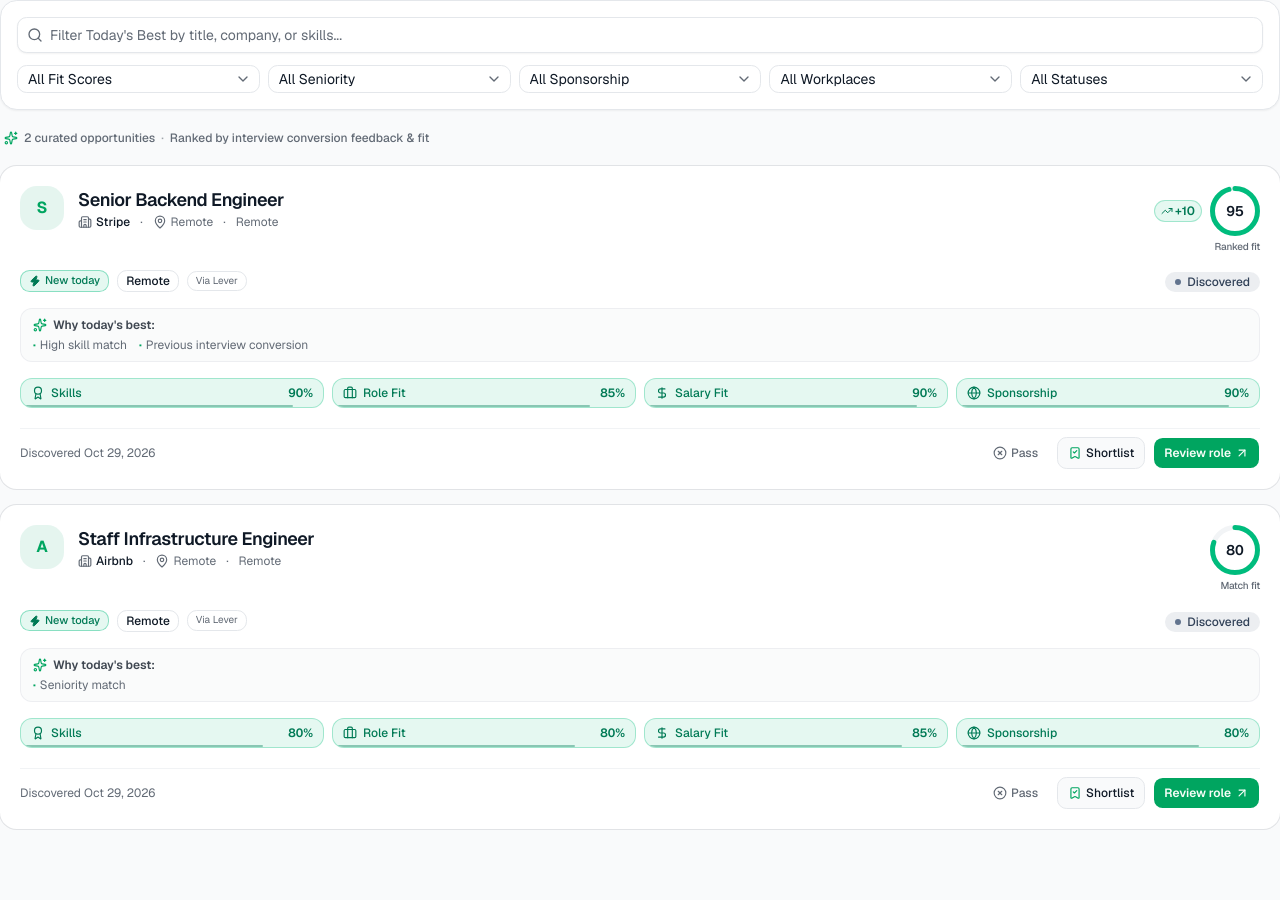
Scenario: judges a Pass against the filter in force when it is saved
Click the button "Pass" below "Ranked fit".
click(1016, 453)  # box [982,437,1049,469]
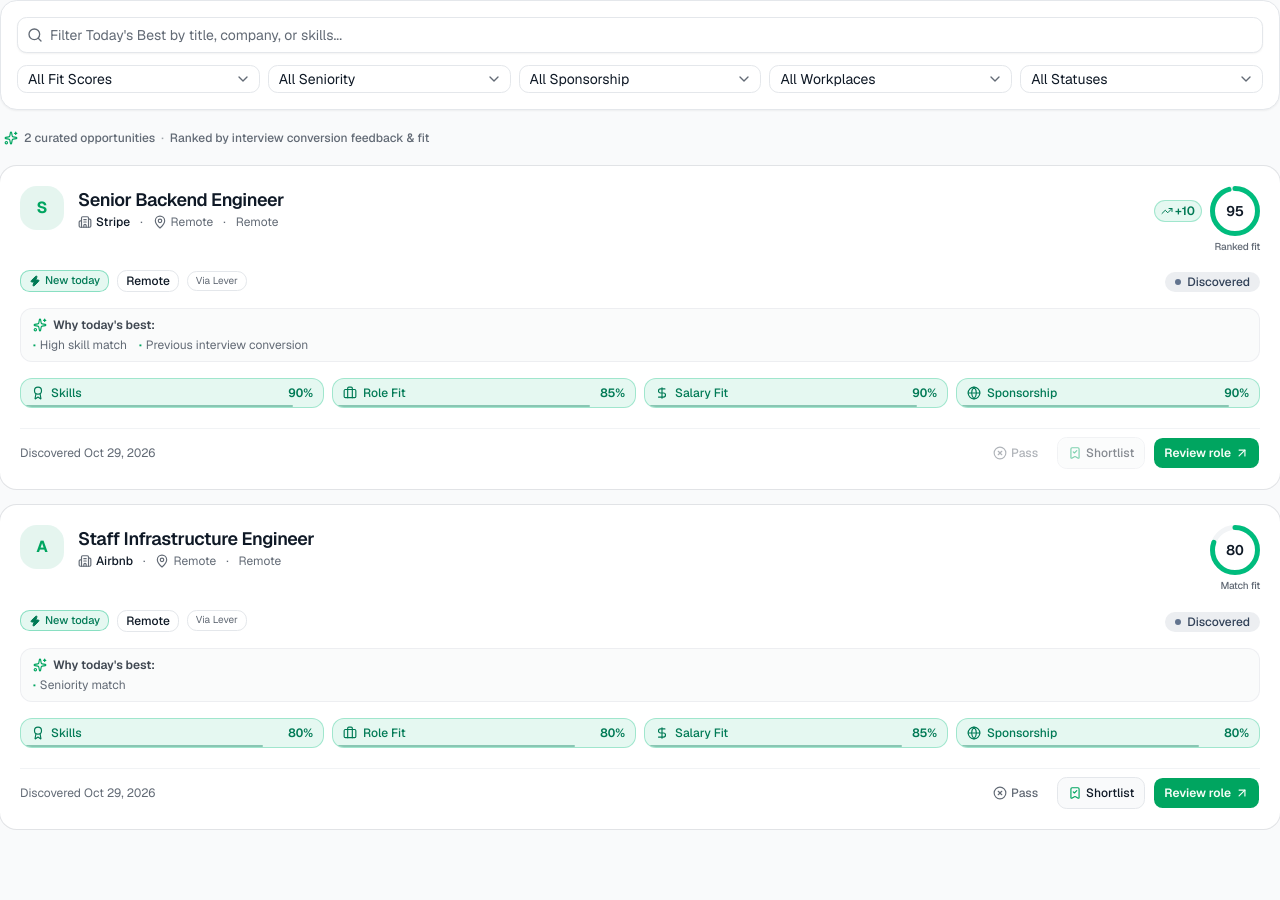
Click the dropdown named "filter by pipeline status".
click(1142, 79)  # box [1020,65,1263,93]
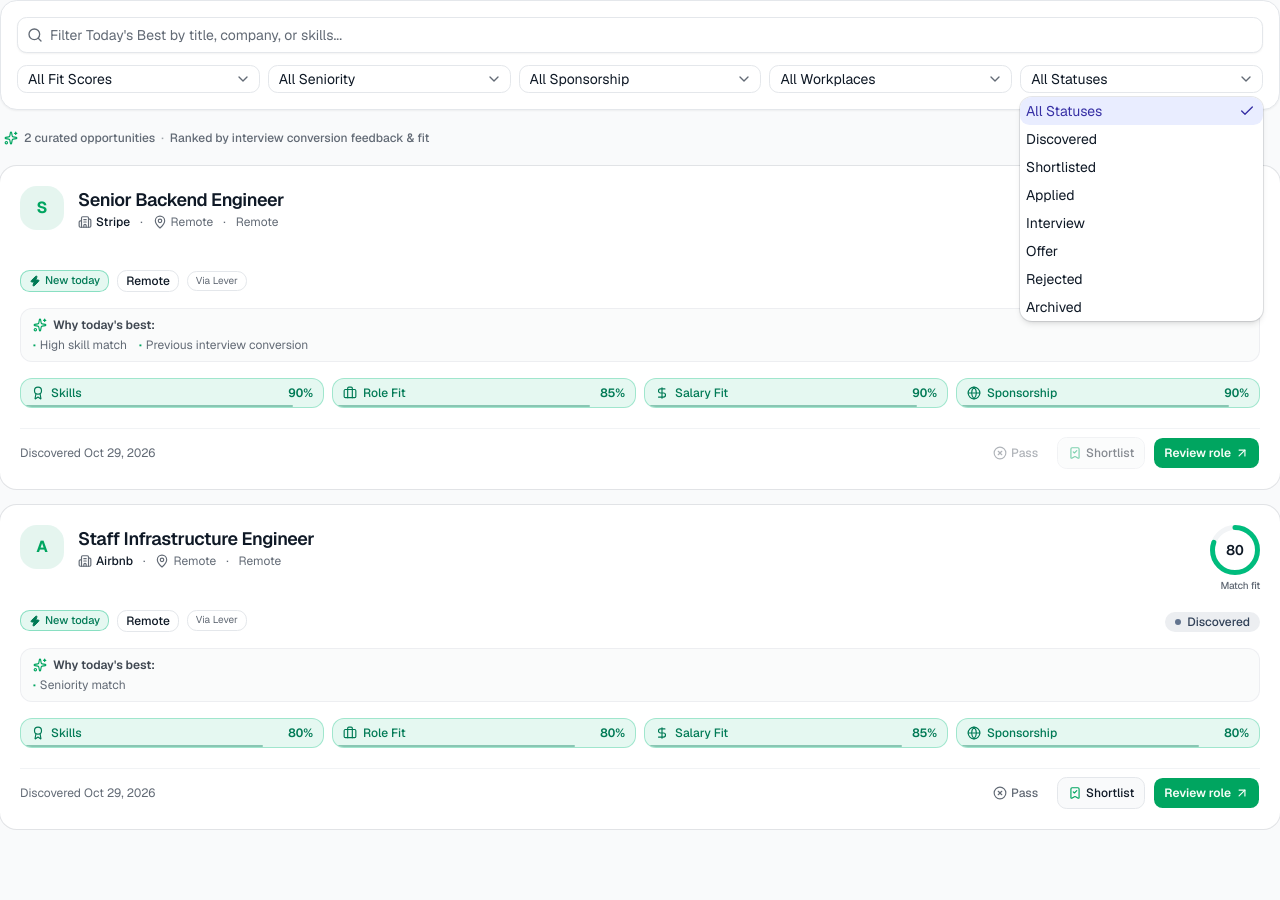
Click the option "Archived".
click(1054, 307)  # box [1026,298,1082,316]
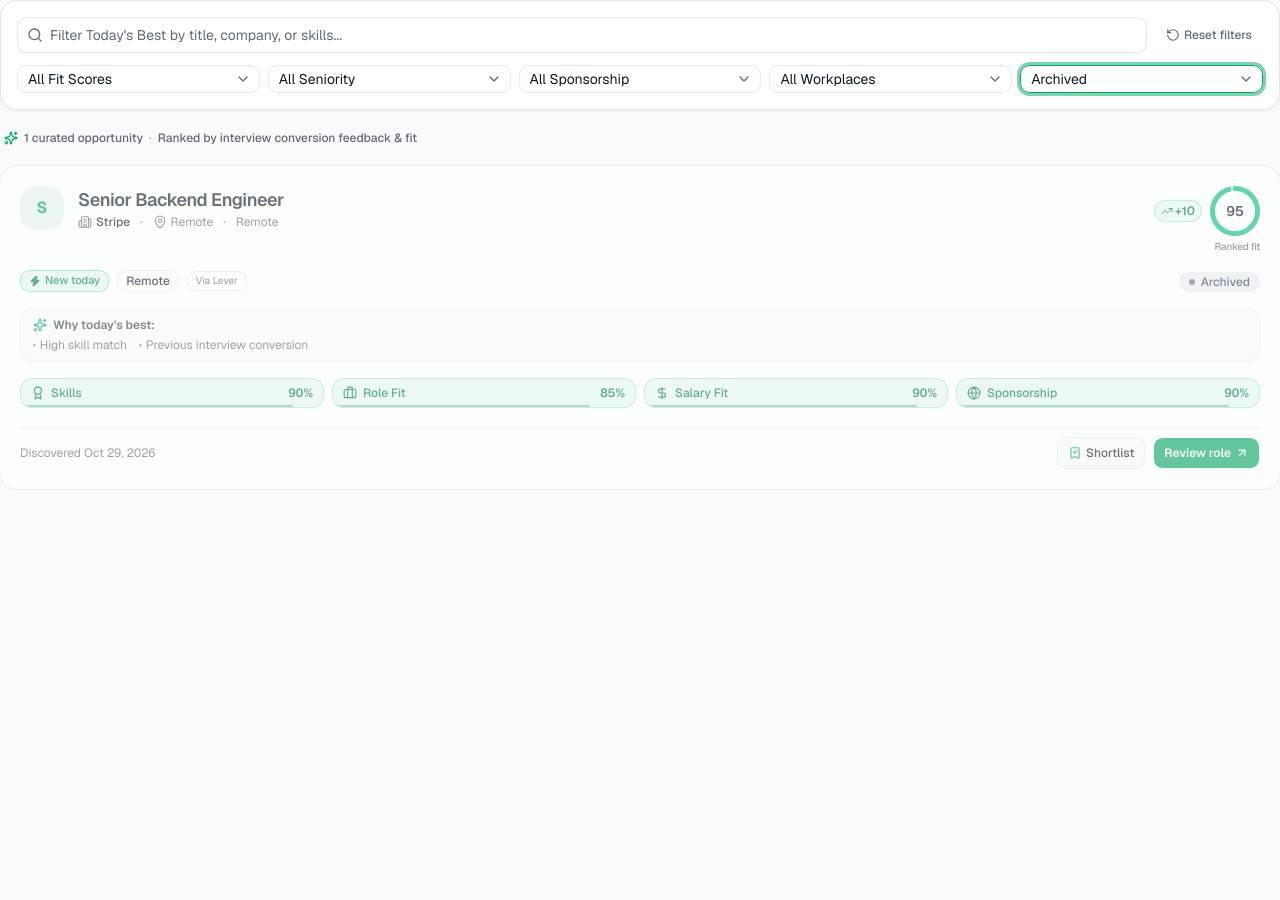
Expected: the link "Senior Backend Engineer" is shown, [78,186,284,214]
Expected: the text "1 curated opportunity" is shown, [24,130,143,146]
